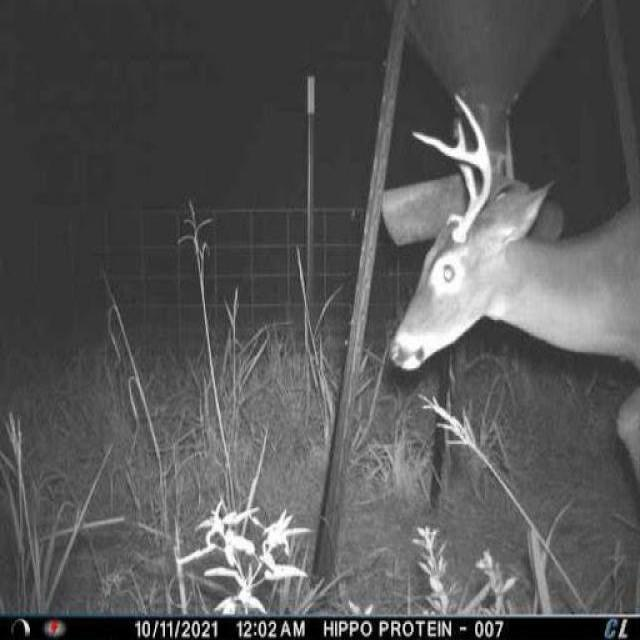deer: (377, 83, 640, 508)
